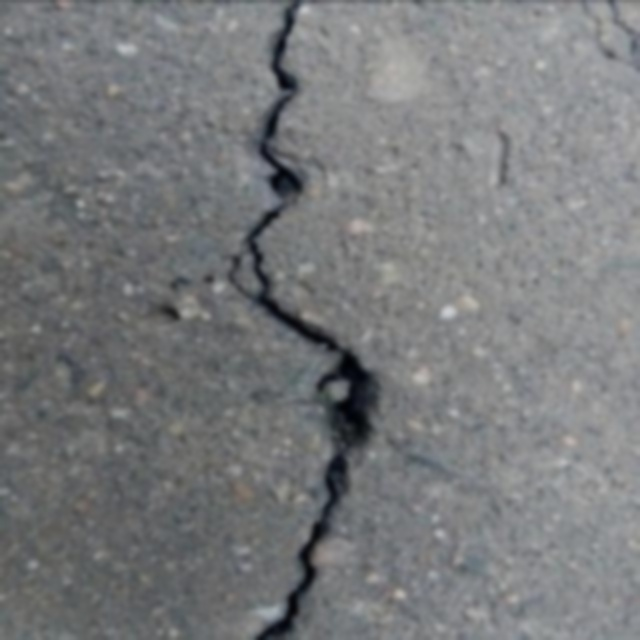SurfaceCrack: (192, 0, 416, 640)
